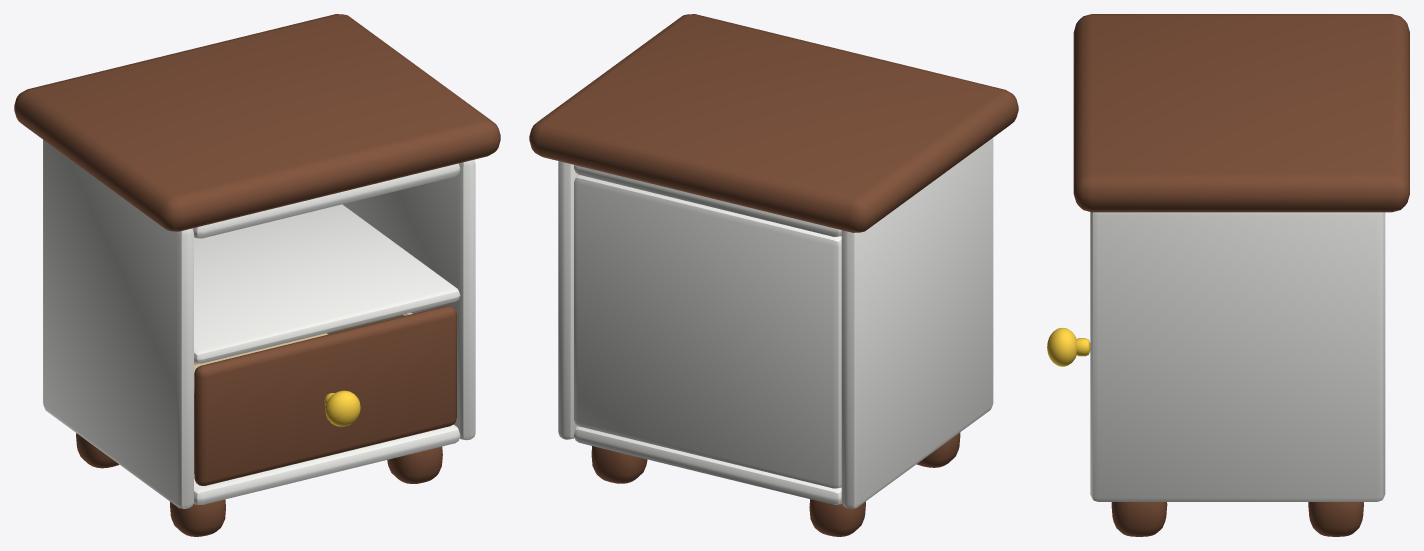
Rendered from criado_nicho_gaveta_branco.glb.
3 views of the same model, side by side, from view 1: azimuth 30°, elevation 25°; view 2: azimuth 150°, elevation 25°; view 3: azimuth 270°, elevation 25° (orthographic). The views are drawn at different scales.
Parts seen in each view (by area): view 1: criado_nicho_gaveta_branco, gaveta_1; view 2: criado_nicho_gaveta_branco; view 3: criado_nicho_gaveta_branco, gaveta_1.
Boxes of the visible parts, left/top/right/bottom form: criado_nicho_gaveta_branco: left=14, top=14, right=500, bottom=536; gaveta_1: left=194, top=306, right=456, bottom=485; criado_nicho_gaveta_branco: left=529, top=14, right=1018, bottom=536; criado_nicho_gaveta_branco: left=1073, top=14, right=1409, bottom=536; gaveta_1: left=1047, top=327, right=1090, bottom=366.
Size of the model in its own units: 0.5 by 0.515 by 0.4426.
Materials: 1 (1 with a texture image).
